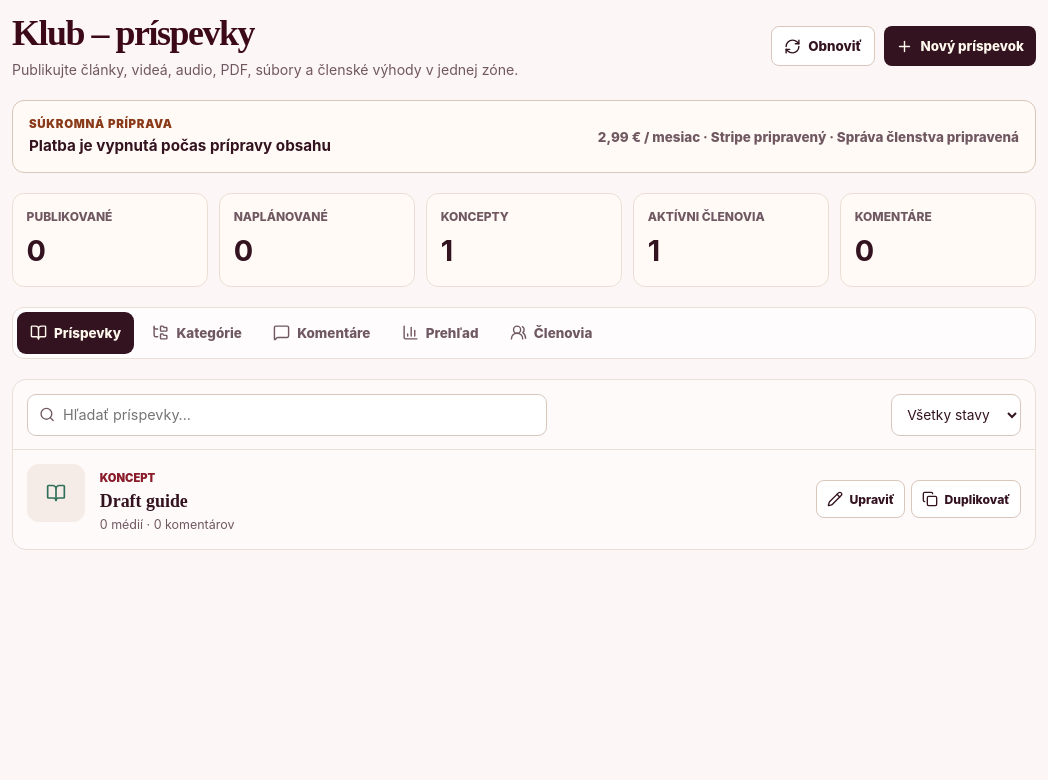
MembershipAdminSection › labels permanent complimentary access separately from Stripe
Step 1. Click the button "Členovia" → x=551, y=333, box [497, 312, 605, 354]
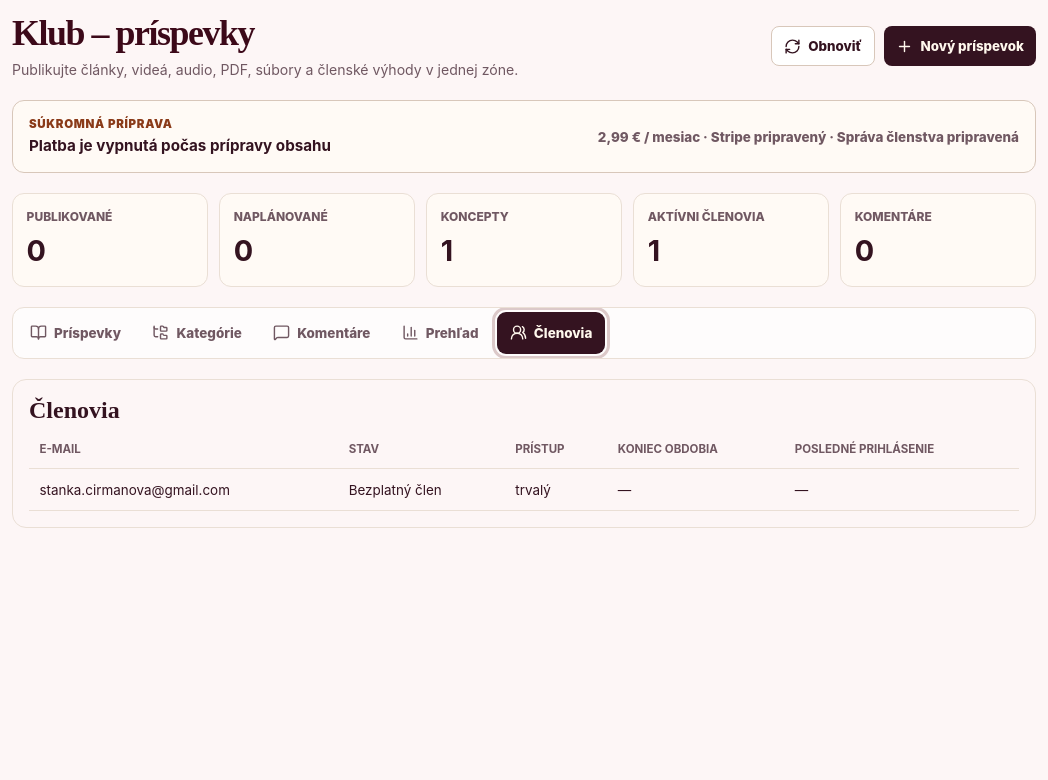
Check: the text "stanka.cirmanova@gmail.com" is shown, box [29, 469, 338, 511]
Check: the text "Bezplatný člen" is shown, box [338, 469, 505, 511]
Check: the text "trvalý" is shown, box [505, 469, 608, 511]
